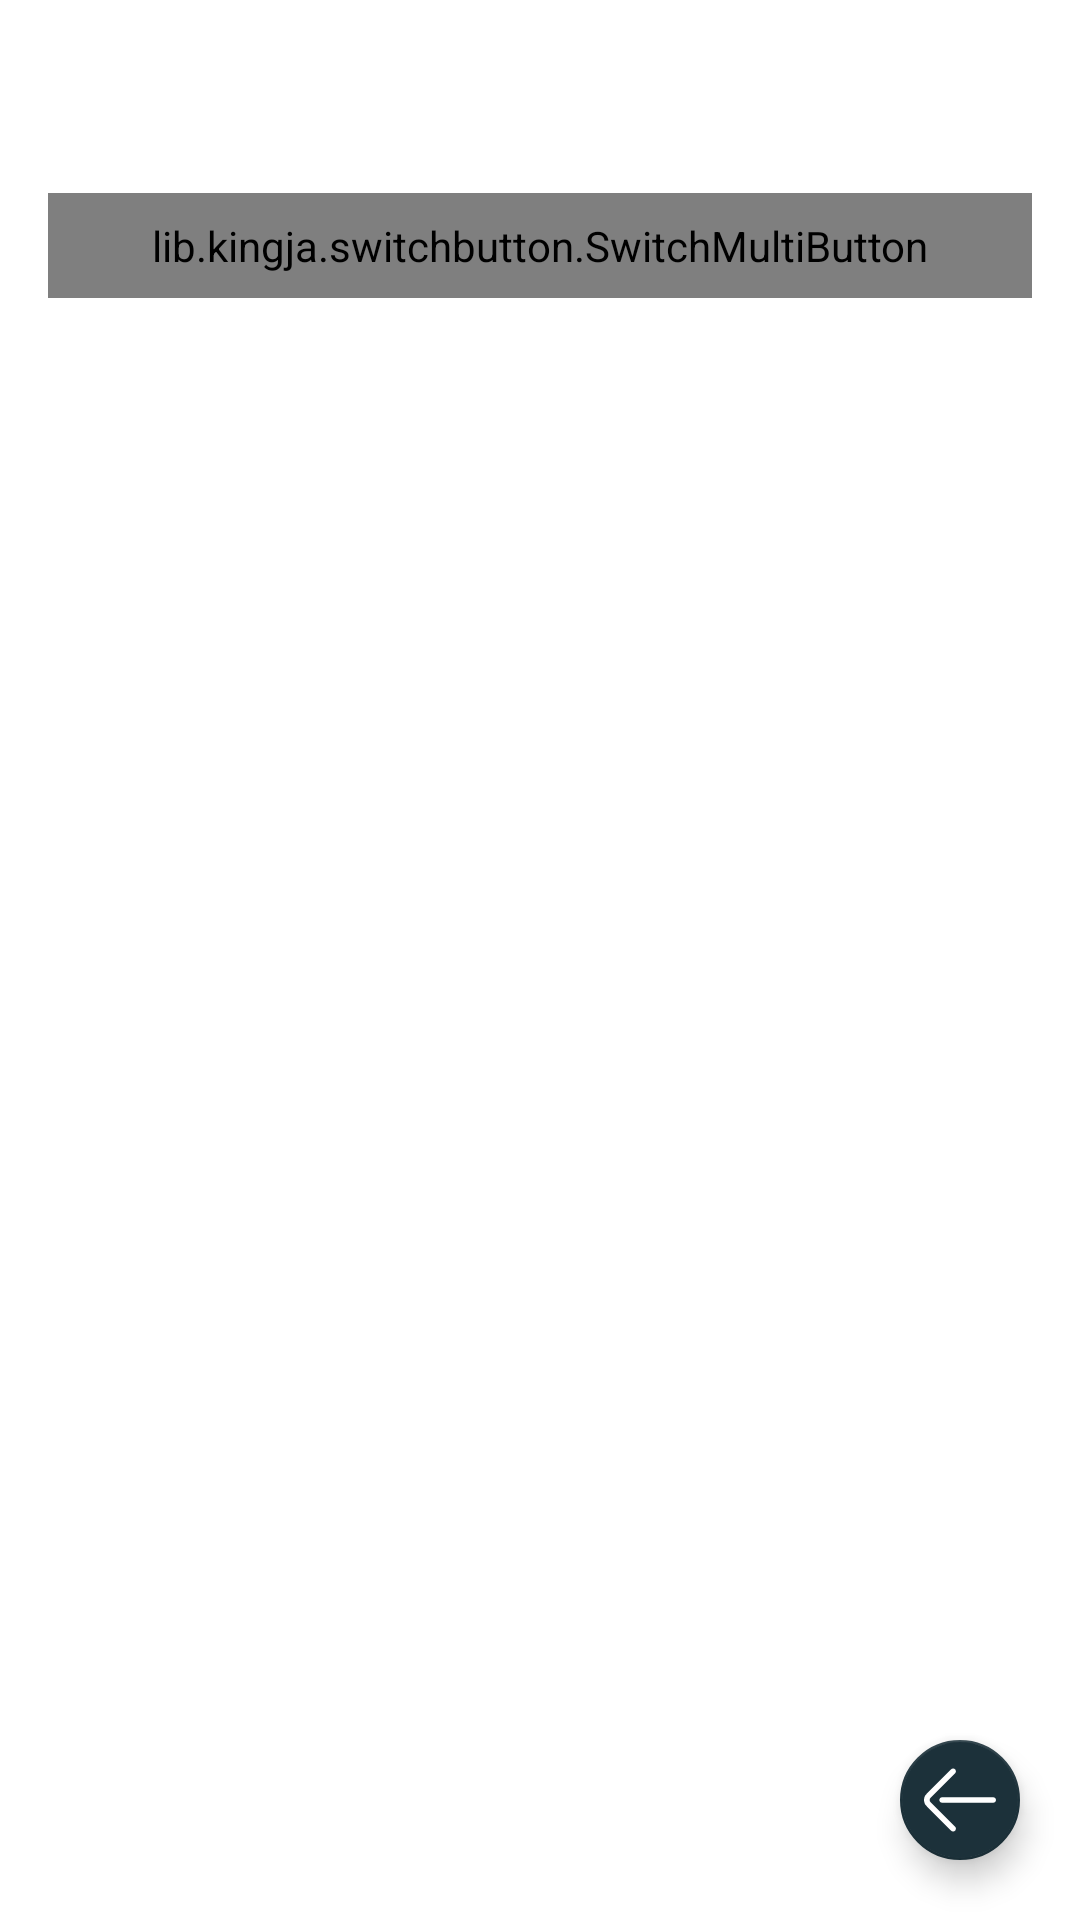

Point at icon controls on the screen. Image size 1080w x 1920h, points as (x,y).
arrow back: (961,1806)
